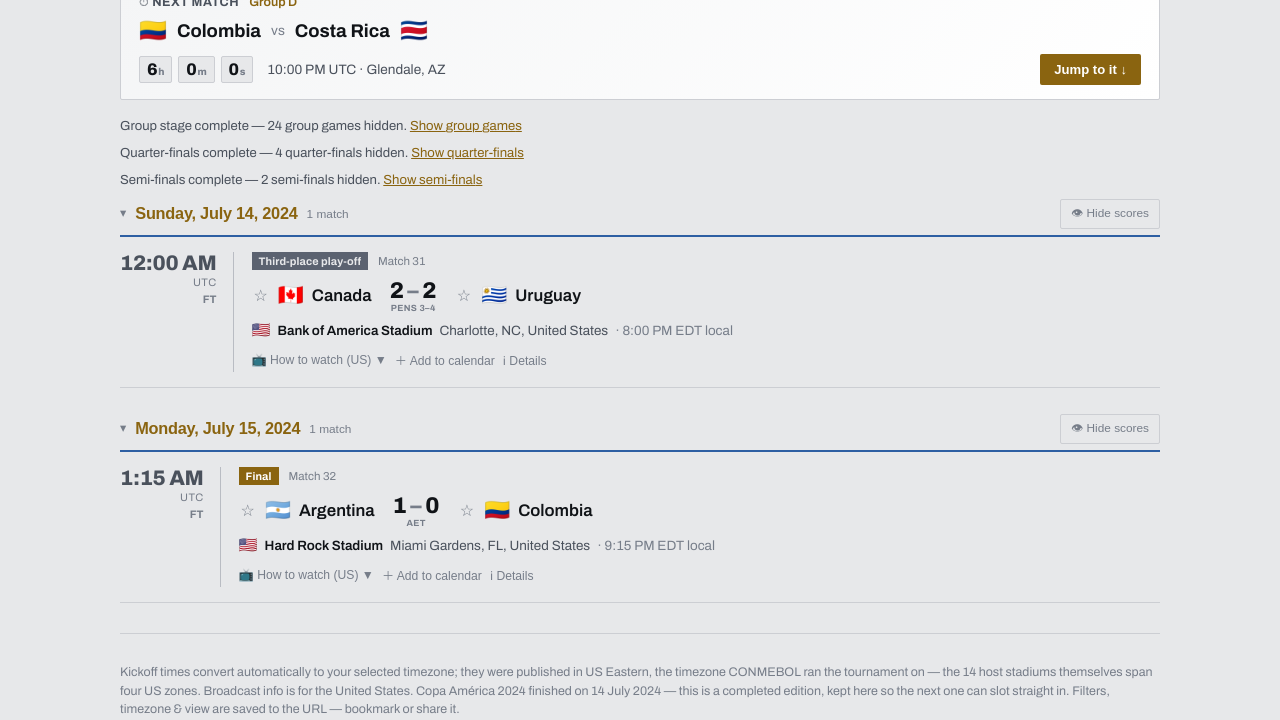
Test case: App renders (smoke test) › opens the match-detail modal from a card
(page scrolled)
What coordinates should you click on to do the following:
click the button "ℹ Details" below "Bank of America Stadium"
I would click on:
 (525, 361)
Its box is [503,349,546,372].
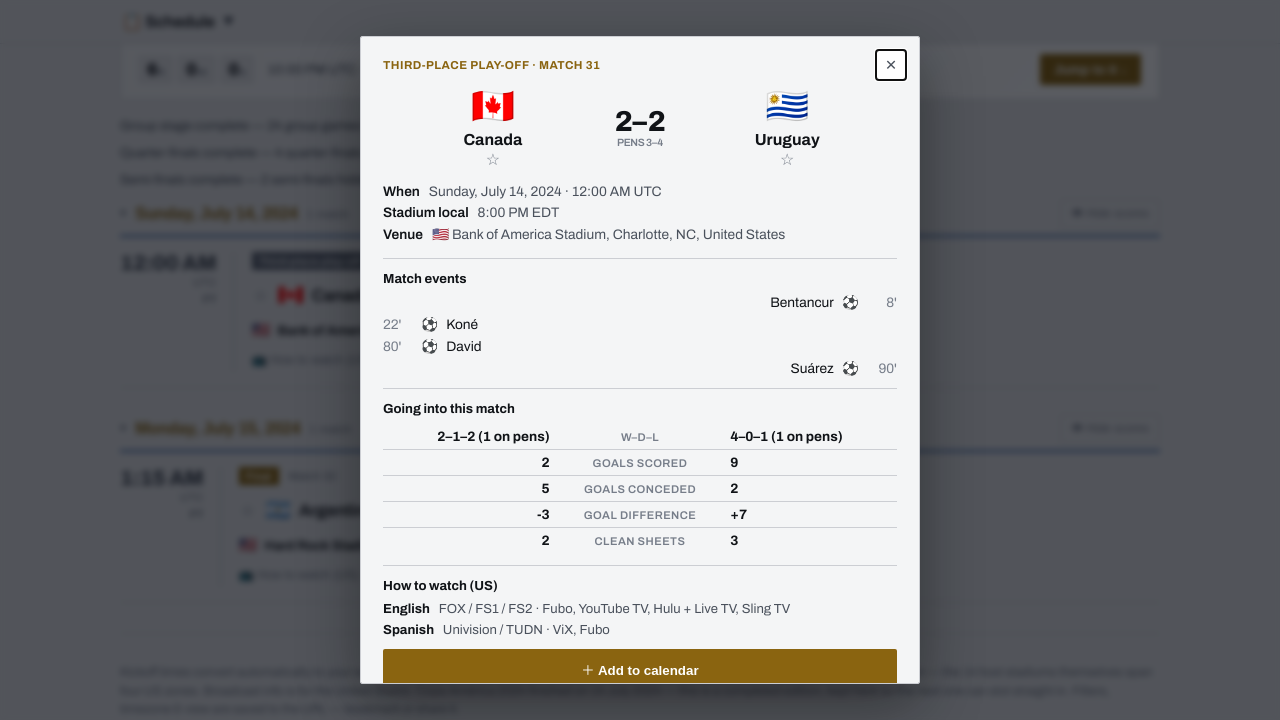
Check: the dialog is shown
Check: the heading "How to watch (US)" is shown, box [383,578,498,593]
Check: the text "Stadium local" is shown, box [383,205,469,220]
